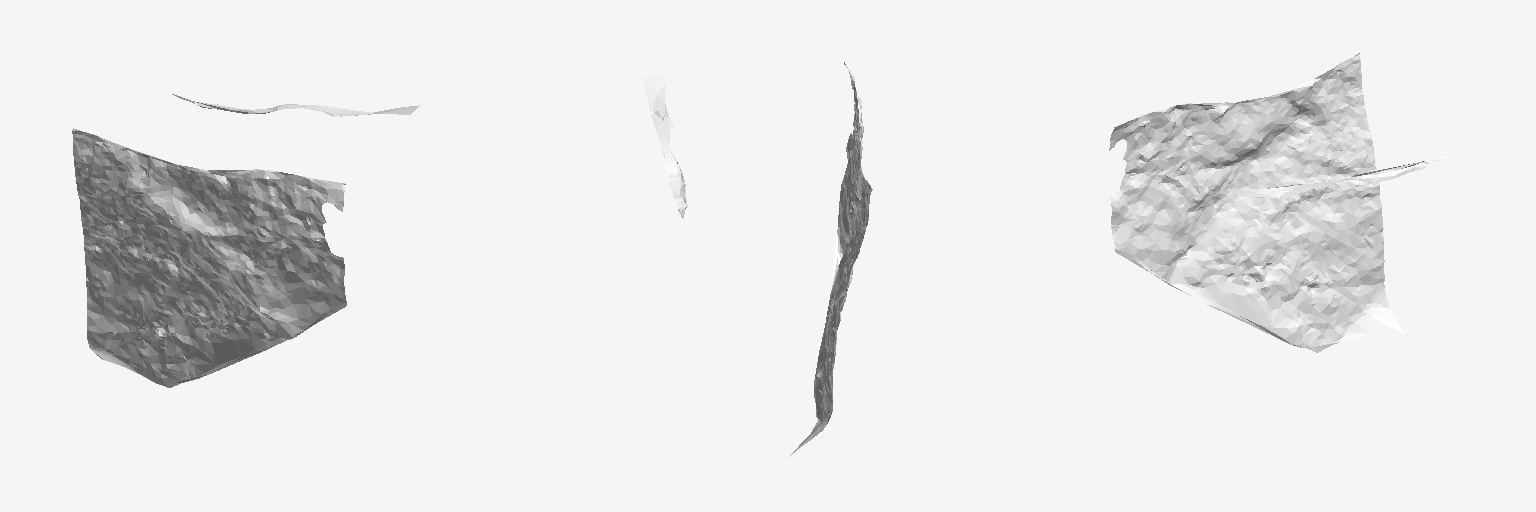
Rendered from tile_2_0.obj.
3 renders of one model, left to right at view 1: azimuth 30°, elevation 25°; view 2: azimuth 150°, elevation 25°; view 3: azimuth 270°, elevation 25°, orthographic.
Visible parts, largest first — view 1: texture_0; view 2: texture_0; view 3: texture_0.
Boxes of the visible parts, x1=… form: texture_0: x1=72, y1=94, x2=419, y2=387; texture_0: x1=643, y1=62, x2=872, y2=456; texture_0: x1=1109, y1=53, x2=1450, y2=352.
Bounding box in the file's own units: 0.3963 × 0.3501 × 0.406.